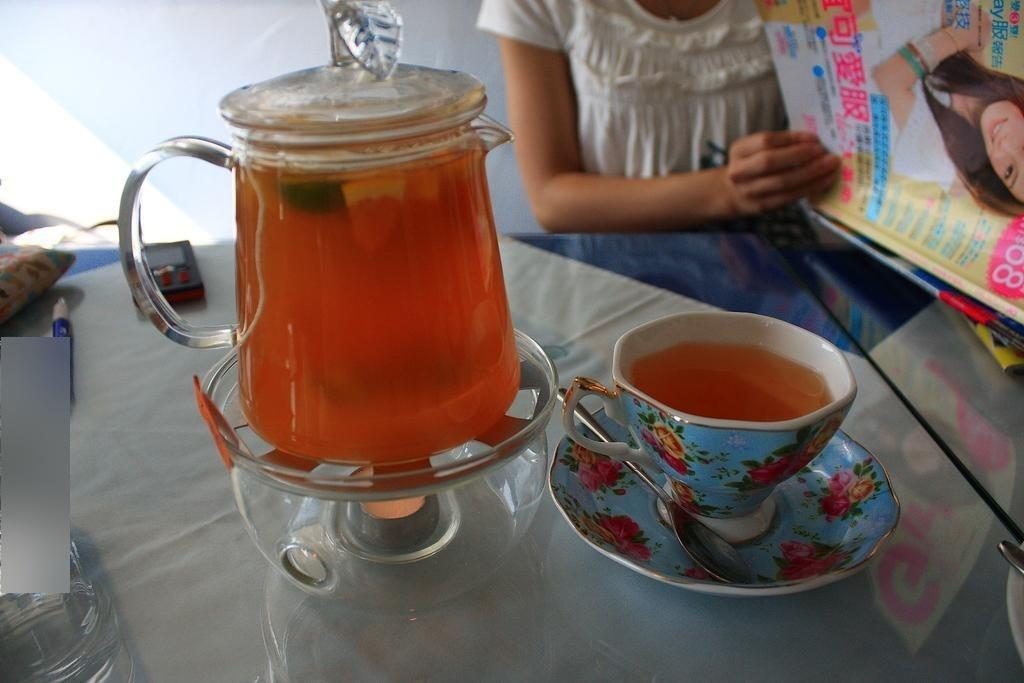cup-handle: (561, 311, 860, 545)
